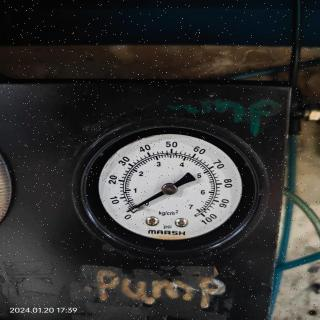gauge: (35, 104, 278, 274), (193, 204, 216, 228), (120, 202, 144, 222), (161, 182, 177, 196), (125, 207, 133, 214)
